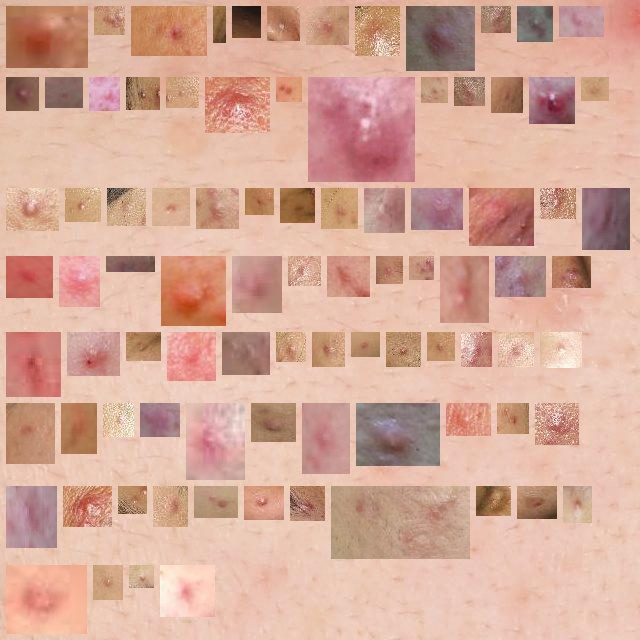papule: (316, 85, 407, 174), (339, 494, 462, 551), (14, 573, 79, 626), (364, 411, 432, 458), (14, 14, 80, 60), (169, 264, 218, 318), (194, 411, 237, 472), (414, 14, 467, 63), (477, 196, 526, 238), (139, 14, 199, 48), (213, 85, 262, 125), (14, 340, 53, 389), (310, 411, 342, 466), (448, 264, 481, 315), (14, 494, 49, 540), (14, 411, 47, 456), (590, 196, 622, 242), (168, 573, 207, 609), (240, 264, 274, 305), (175, 340, 208, 373), (75, 340, 112, 368), (14, 196, 51, 223), (363, 14, 392, 48), (419, 196, 455, 222), (537, 85, 567, 116), (67, 264, 92, 299), (503, 264, 538, 289), (230, 340, 262, 367), (71, 494, 104, 519), (14, 264, 45, 290), (543, 411, 571, 437), (372, 196, 397, 225), (69, 411, 89, 446), (204, 196, 231, 221), (335, 264, 362, 289), (259, 411, 288, 434), (314, 14, 341, 37), (329, 196, 350, 221), (548, 340, 574, 360), (115, 196, 138, 218), (454, 411, 483, 428), (160, 196, 182, 218), (161, 494, 180, 519), (202, 494, 230, 510), (567, 14, 596, 29), (148, 411, 172, 429), (252, 494, 276, 512), (525, 494, 549, 511), (525, 14, 545, 34), (506, 340, 526, 359), (560, 264, 583, 280), (288, 196, 307, 215), (394, 340, 413, 359), (298, 494, 317, 513), (73, 196, 93, 214), (53, 85, 75, 100), (275, 14, 292, 33), (320, 340, 337, 359), (499, 85, 515, 105), (14, 85, 31, 103), (134, 85, 152, 102), (548, 196, 568, 211), (469, 340, 484, 359), (571, 494, 584, 515), (97, 85, 112, 103), (111, 411, 126, 429), (484, 494, 503, 508), (101, 573, 115, 592), (174, 85, 191, 100), (134, 340, 153, 353), (505, 411, 521, 426), (296, 264, 313, 278), (114, 264, 147, 271), (240, 14, 253, 30), (284, 340, 298, 354), (102, 14, 117, 27), (462, 85, 477, 98), (435, 340, 447, 353), (126, 494, 139, 506), (489, 14, 503, 25), (253, 196, 266, 207), (384, 264, 395, 276), (359, 340, 372, 349), (429, 85, 440, 95), (589, 85, 601, 93), (284, 85, 294, 94), (417, 264, 426, 272), (137, 573, 146, 580)
